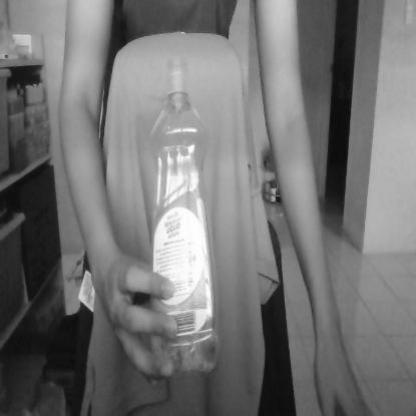Plastic Bottle: (148, 55, 222, 375)
